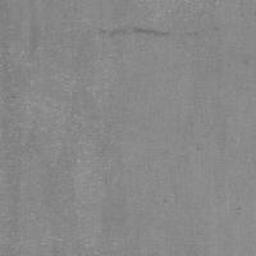Inclusion: (109, 28, 173, 38)
